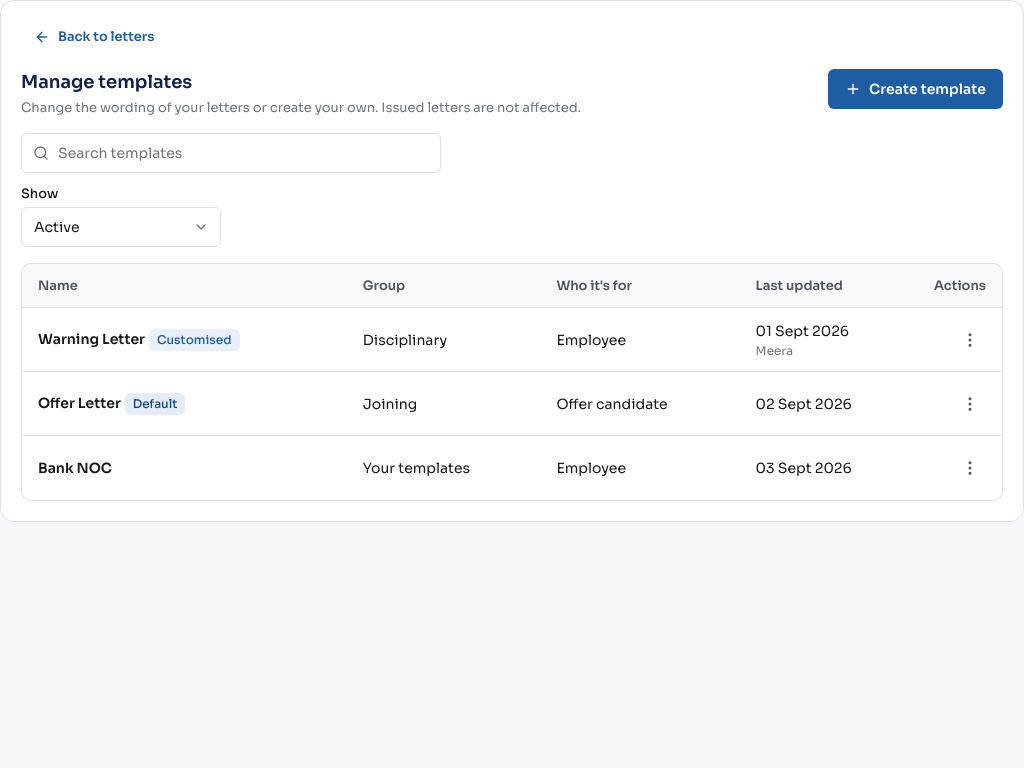
shows a clear-search empty state when nothing matches
The image size is (1024, 768).
Expected: the text "Warning Letter" is shown, [38,328,145,350]
In the search field labelled "Search templates": (231, 153) [21,133,441,173], type "zzz"
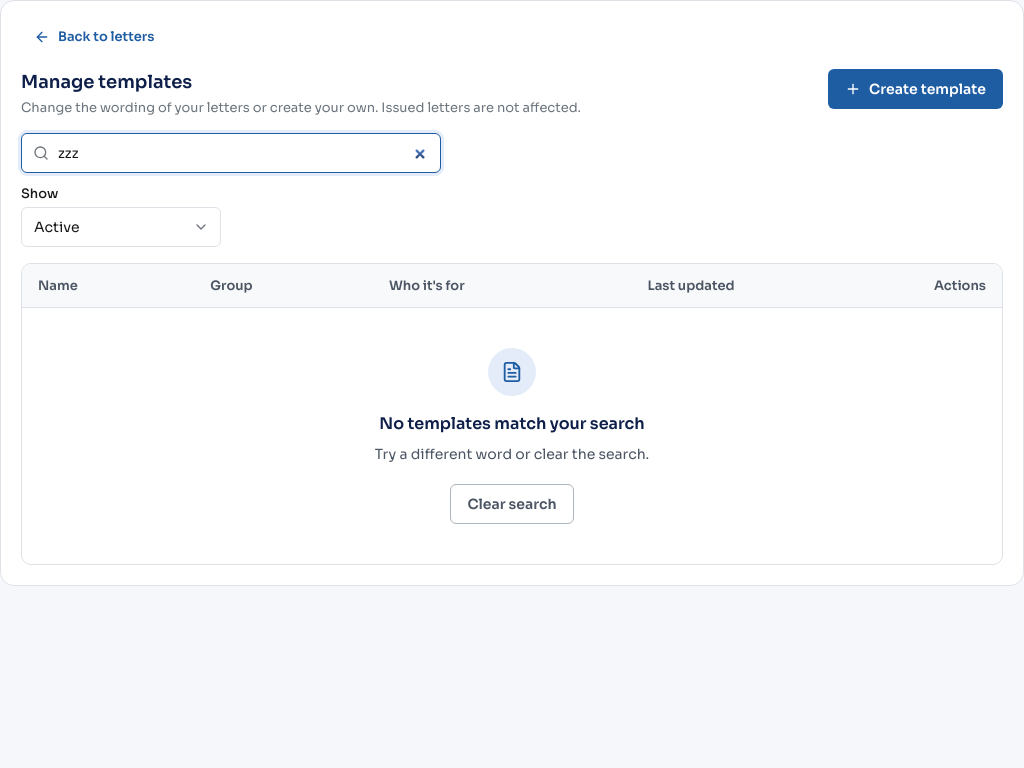
Result: the text "No templates match your search" is shown at [379,412,645,436]
Click the button "Clear search": (512, 504) [450,484,574,524]
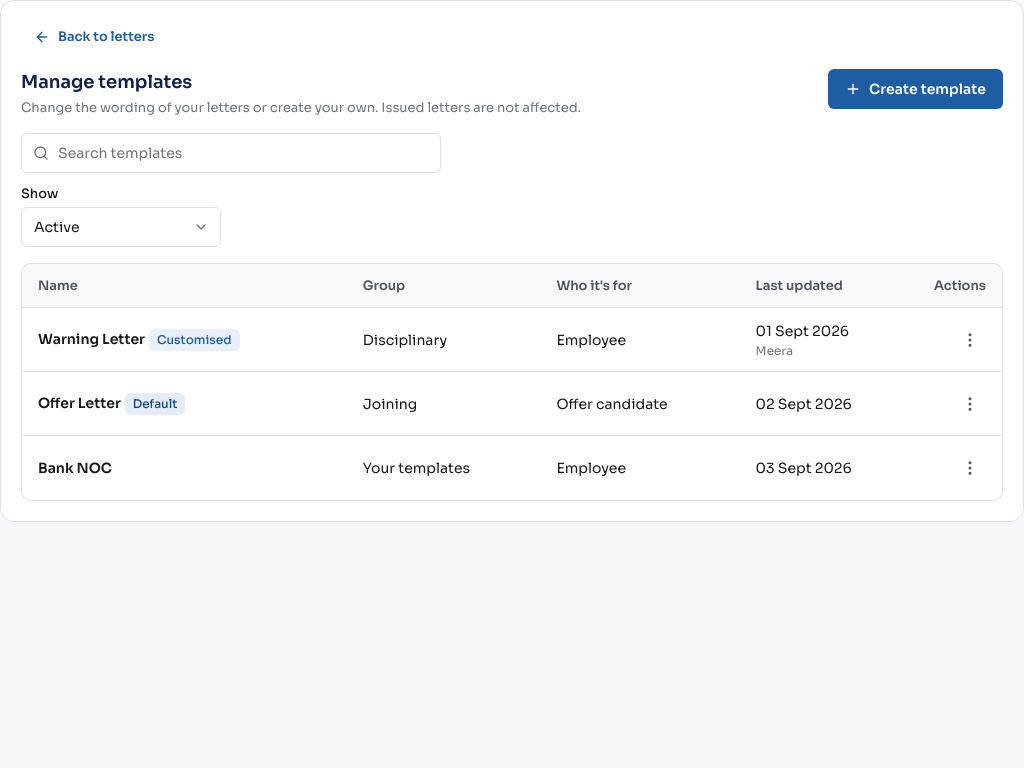
Result: the text "Warning Letter" is shown at [38,328,145,350]
